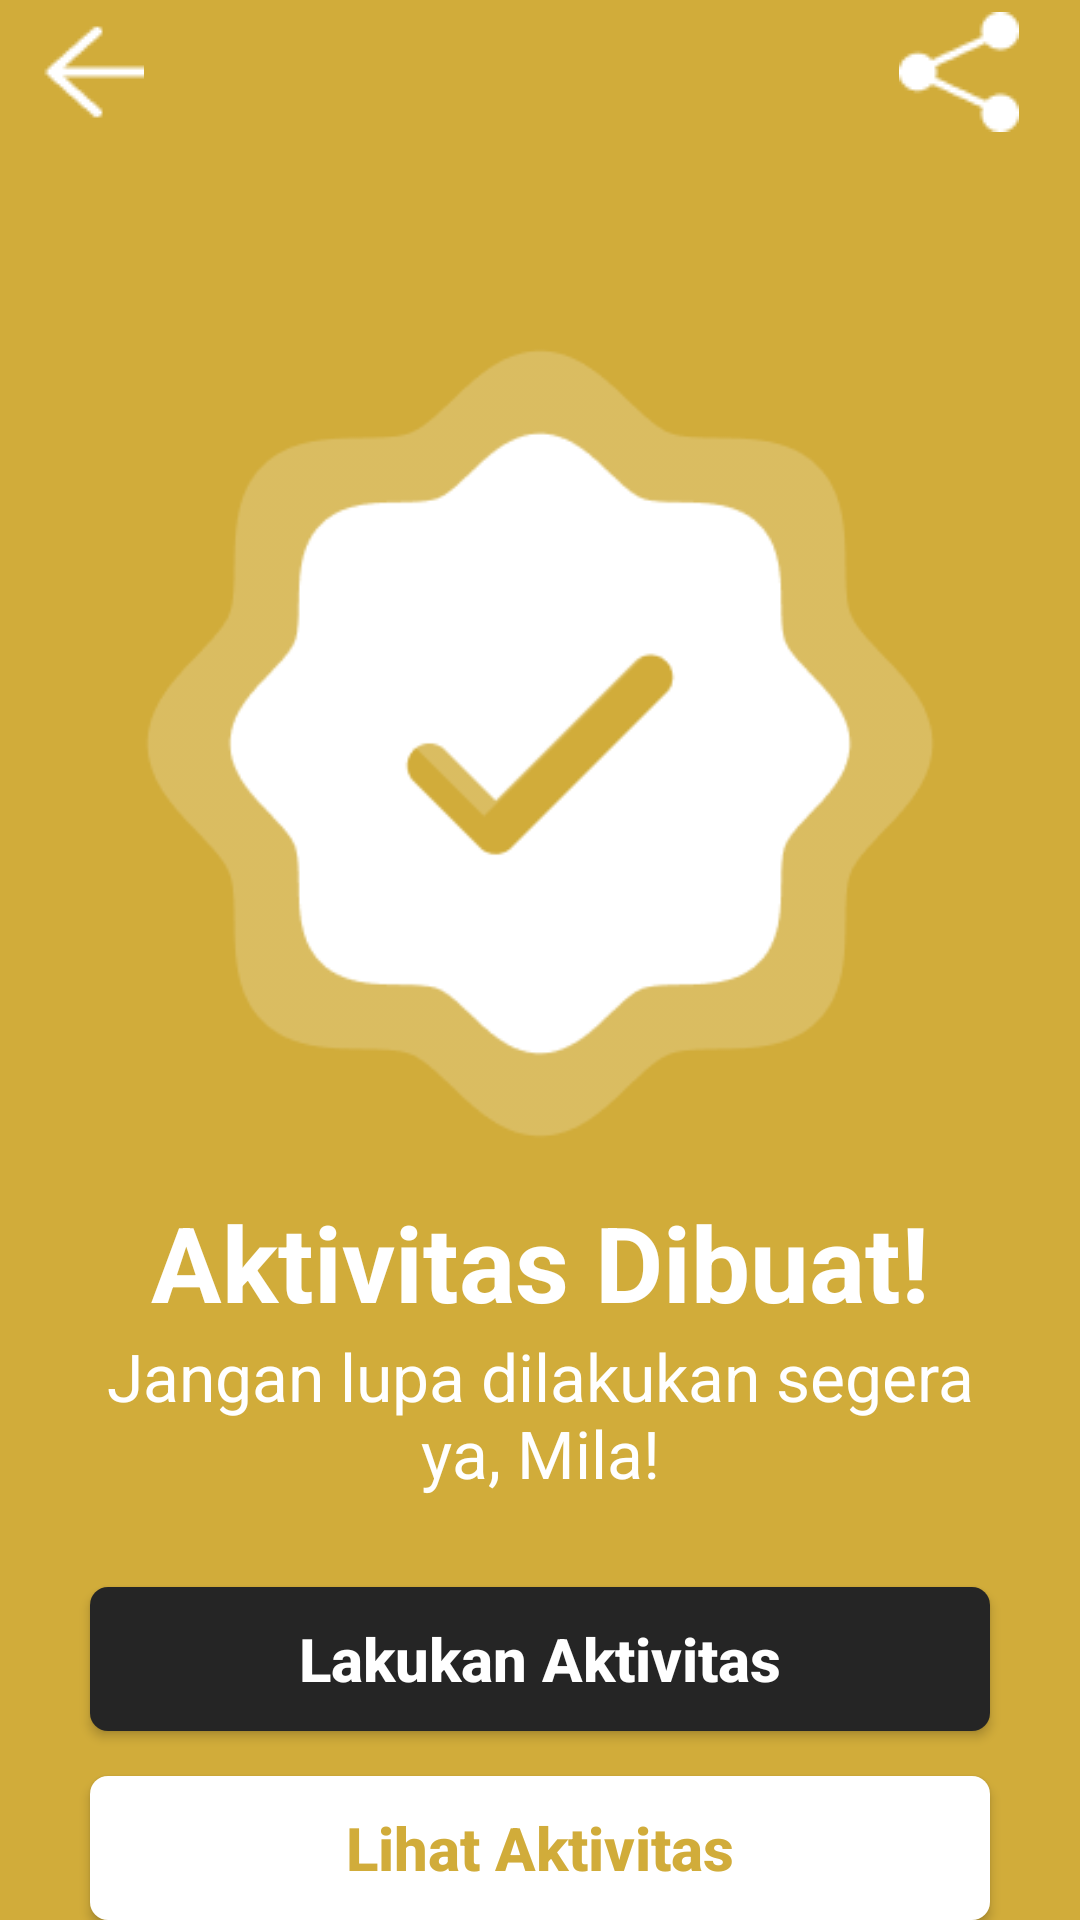

Icon click points for this 1080px x 1920px phone screenshot, format point (x, y):
back: point (94, 72)
share: point (959, 72)
